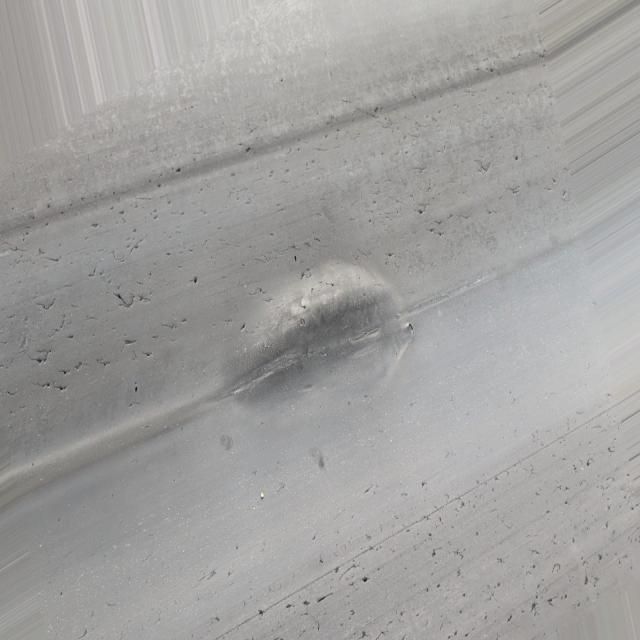Impact Damage: (220, 255, 415, 428)
Puncture: (32, 353, 48, 368), (358, 573, 372, 586), (280, 600, 296, 611), (300, 596, 312, 610), (504, 612, 516, 625), (238, 319, 248, 333), (172, 166, 184, 177), (243, 144, 254, 156), (414, 206, 426, 217), (583, 458, 595, 469), (191, 274, 201, 286), (132, 382, 142, 394), (56, 384, 68, 394), (91, 220, 101, 230), (42, 380, 52, 390), (255, 607, 265, 617), (58, 369, 70, 377), (512, 154, 522, 162), (420, 480, 428, 488), (426, 531, 434, 538)
